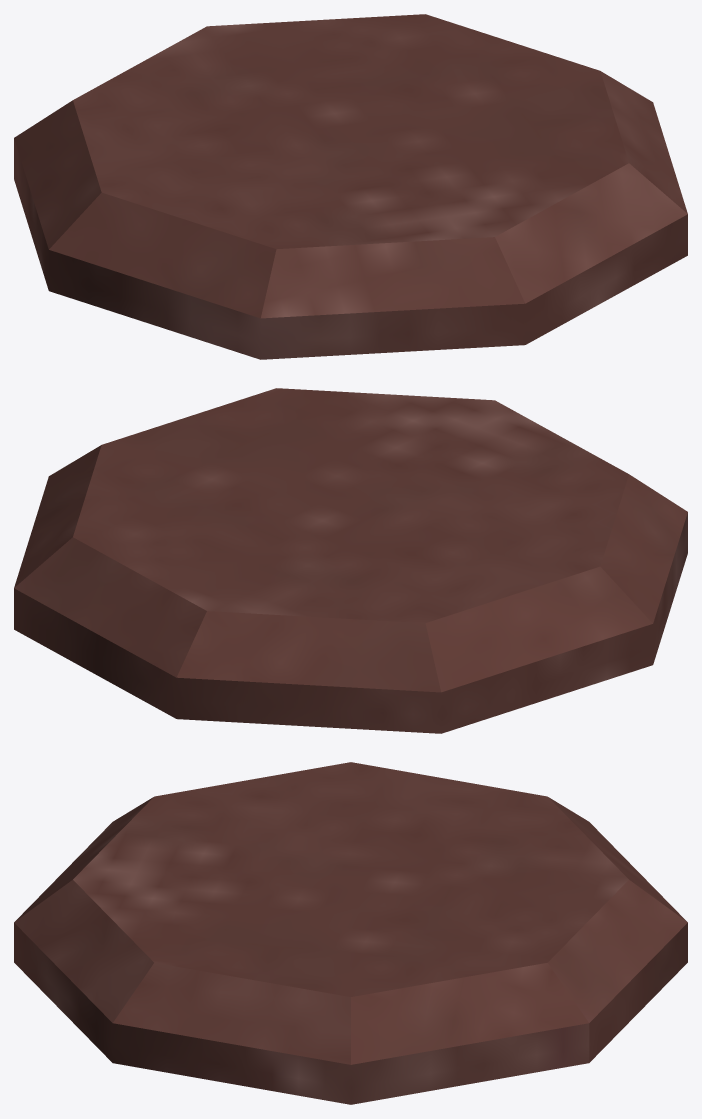
File: plate4.FBX
The picture shows the model from 3 angles, top to bottom: view 1: azimuth 30°, elevation 25°; view 2: azimuth 150°, elevation 25°; view 3: azimuth 270°, elevation 25°; orthographic projection. The views are drawn at different scales.
Visible parts, largest first — view 1: Cylinder001; view 2: Cylinder001; view 3: Cylinder001.
Boxes of the visible parts, <box> form: Cylinder001: <box>14,14,687,359</box>; Cylinder001: <box>14,388,687,733</box>; Cylinder001: <box>14,762,687,1104</box>.
Bounding box in the file's own units: 43.71 × 5.93 × 43.71.
Materials: 1 (1 with a texture image).
